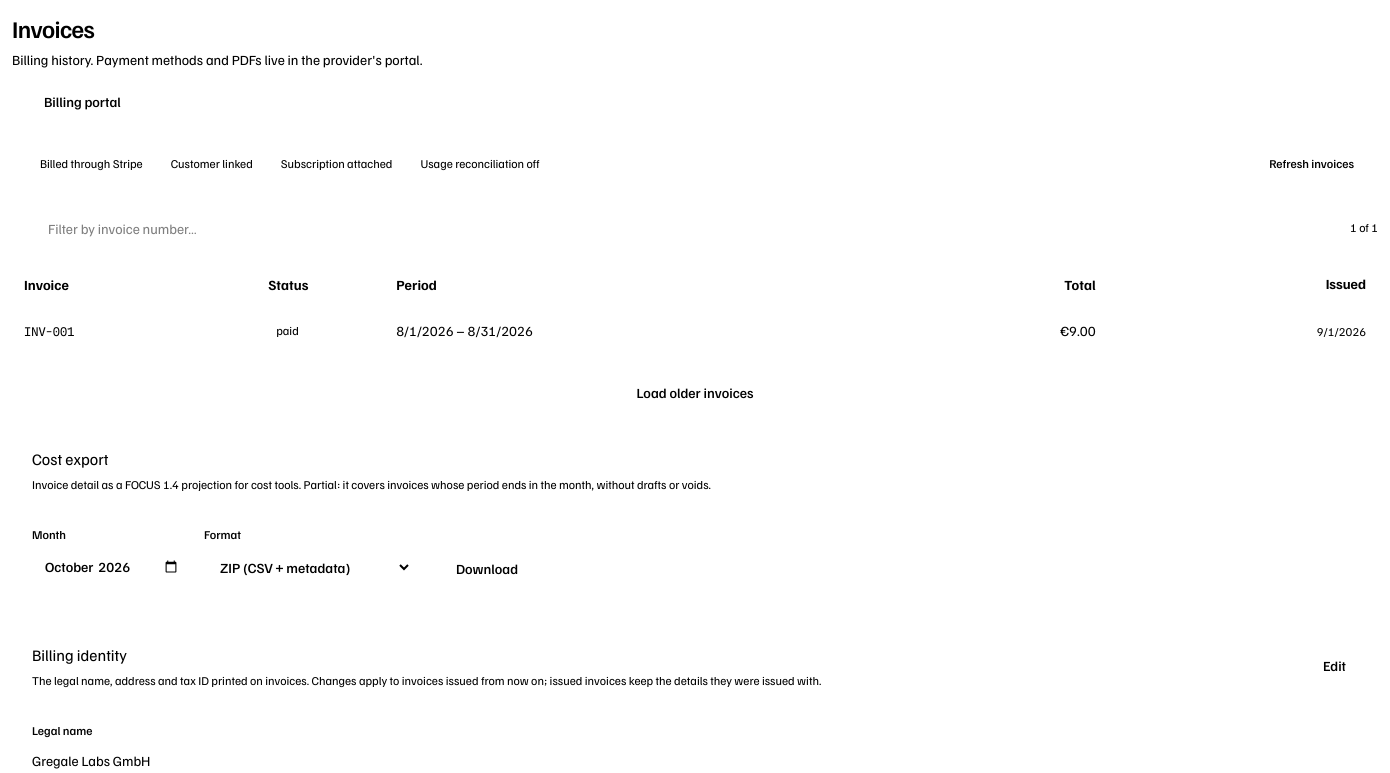
Scenario: loads older invoices without losing the current page
Expected: the text "INV-001" is shown, [24,324,74,338]
Step 1. Click the button "Load older invoices" → (695, 393), box [625,377,765,409]
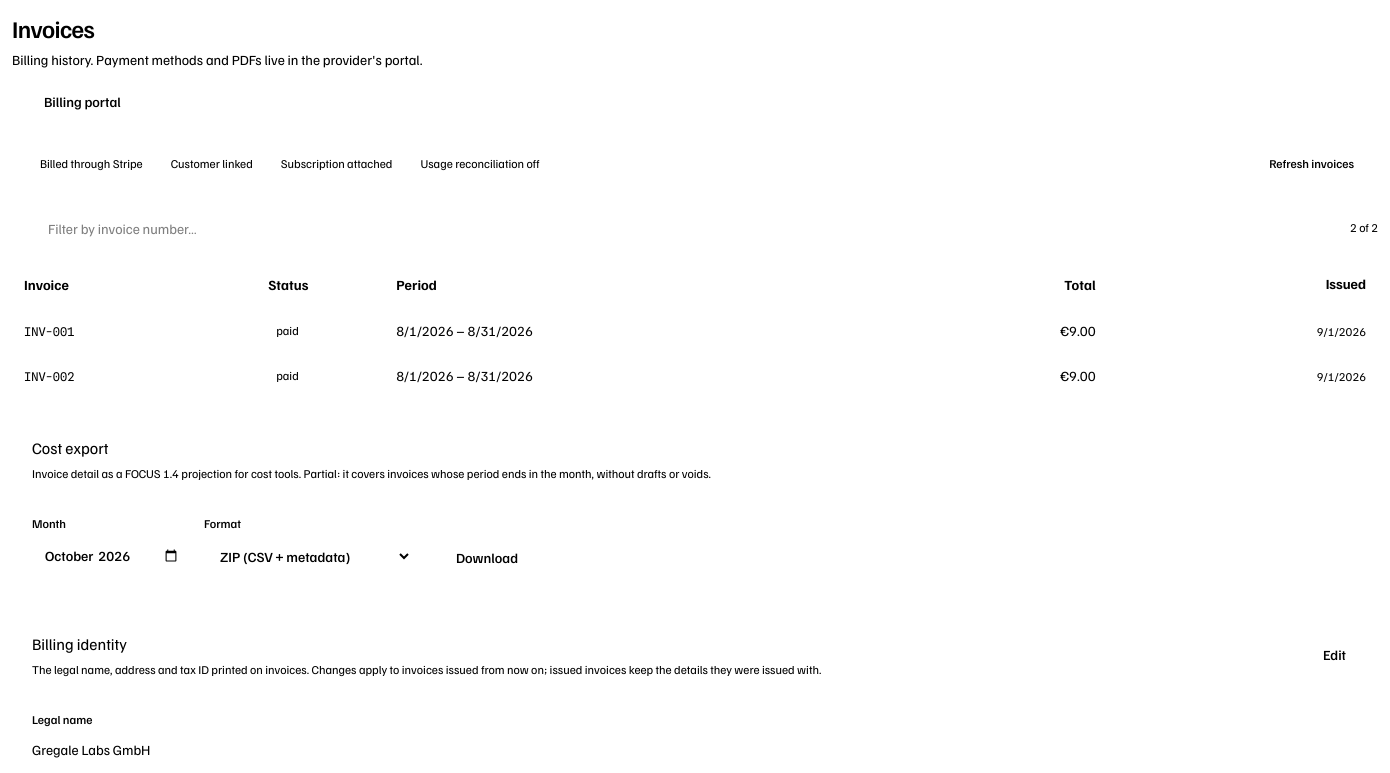
Result: the text "INV-002" is shown at [24,368,74,384]
